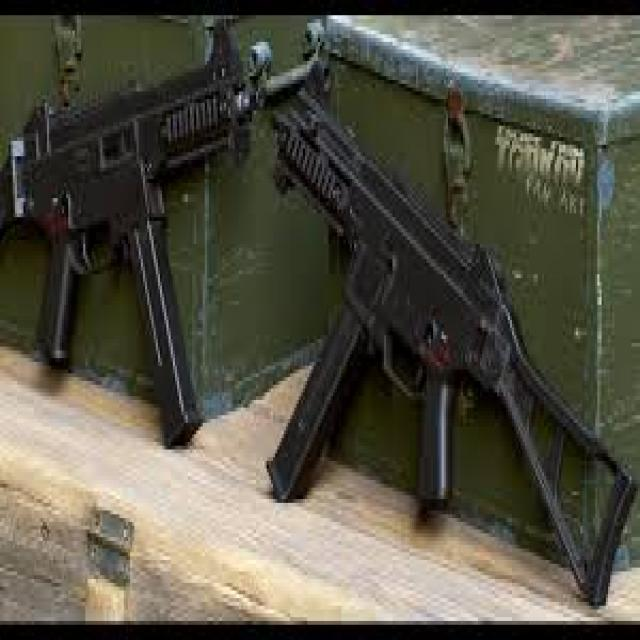Gun: (266, 96, 640, 614), (0, 12, 288, 434)
